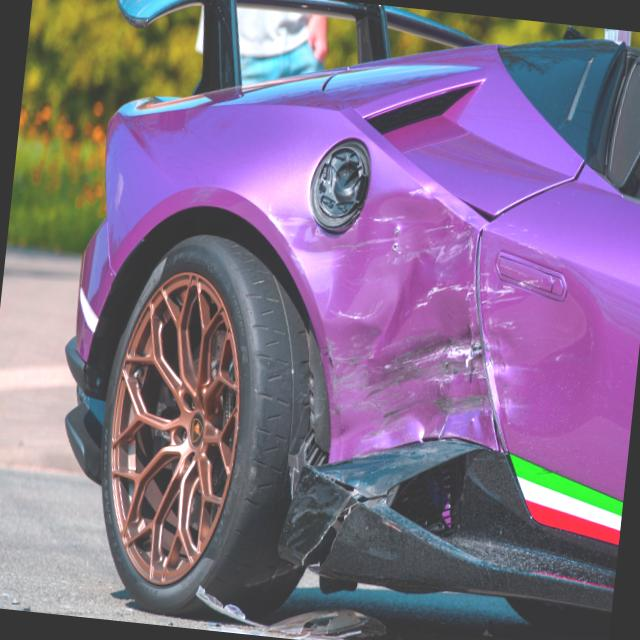Cabossage: (240, 160, 544, 455)
Dechirure: (459, 191, 495, 222), (388, 217, 400, 267)
Rayure: (316, 191, 541, 347), (317, 323, 512, 435)
